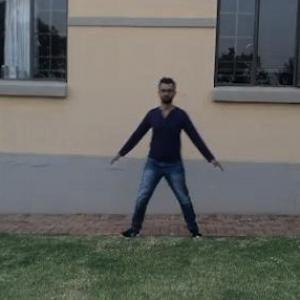land: (105, 73, 233, 242)
